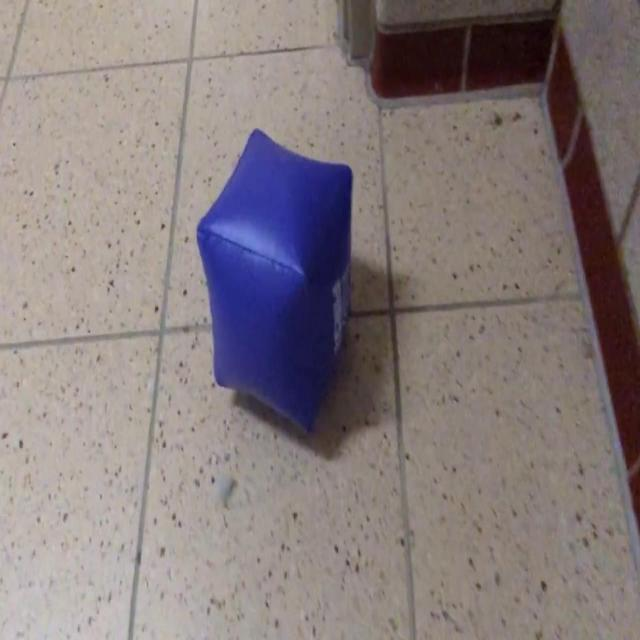frc_cube: (196, 129, 354, 435)
